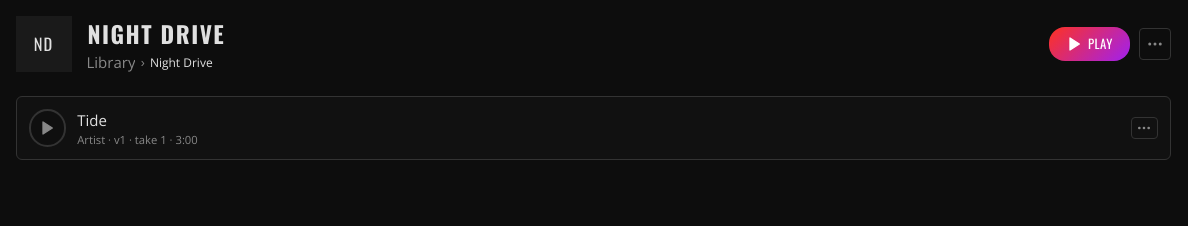
PlaylistDetailView row overflow menu › opens the take's song in the editor and closes the menu
Click the button with class "overflow-btn".
click(1144, 128)  # box [1130, 117, 1158, 139]
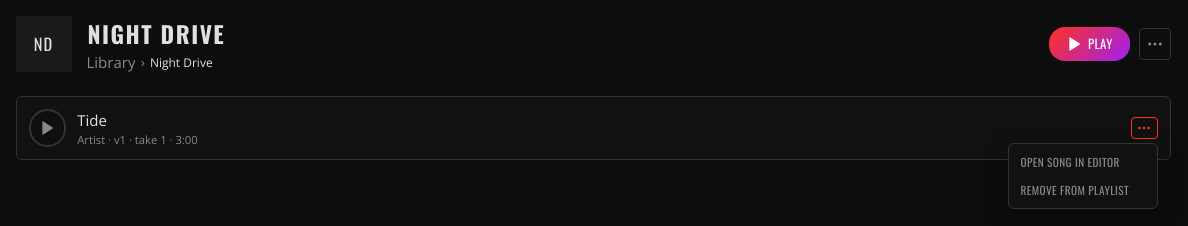
Click the menu item with class "entry-overflow-item" showing "Open song in editor".
click(1083, 162)  # box [1012, 148, 1153, 176]
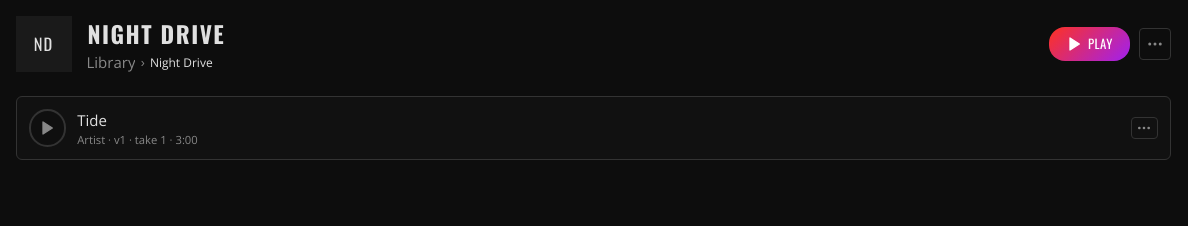
Check: the menu with class "entry-overflow-menu" is gone
